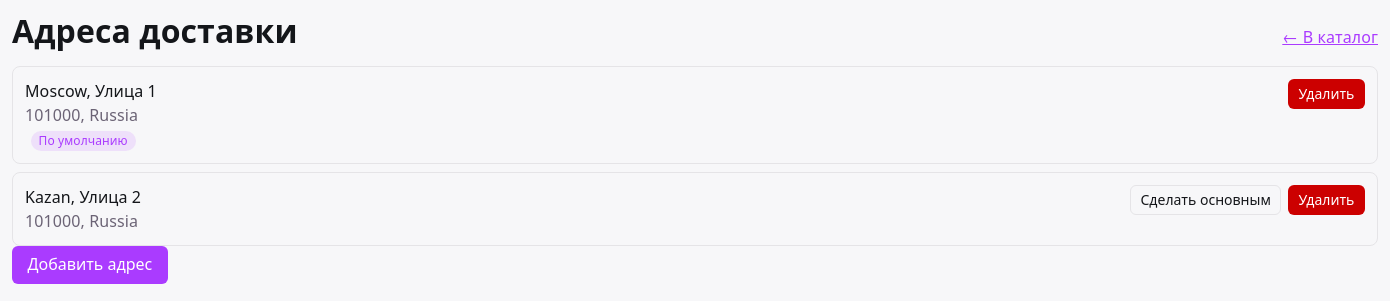
Test: AddressesPage › удаление с подтверждением убирает адрес и показывает info-toast
This screenshot has width=1390, height=301.
expect the text "Moscow, Улица 1" is shown: met, box [25,79,157,103]
Click the button "Удалить" in the row of "Улица 1" at x=1326, y=94, box [1288,79,1365,109]
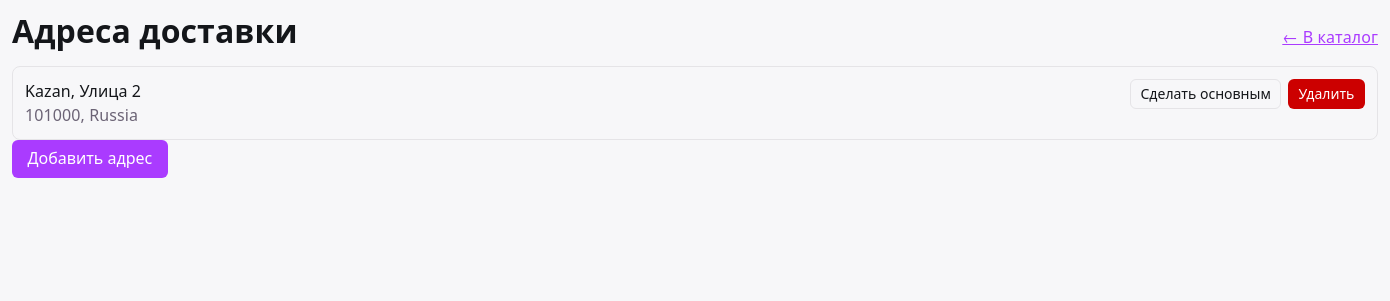
expect the text "Kazan, Улица 2" is shown: met, box [25,79,141,103]
expect the text "Moscow" is gone: met
